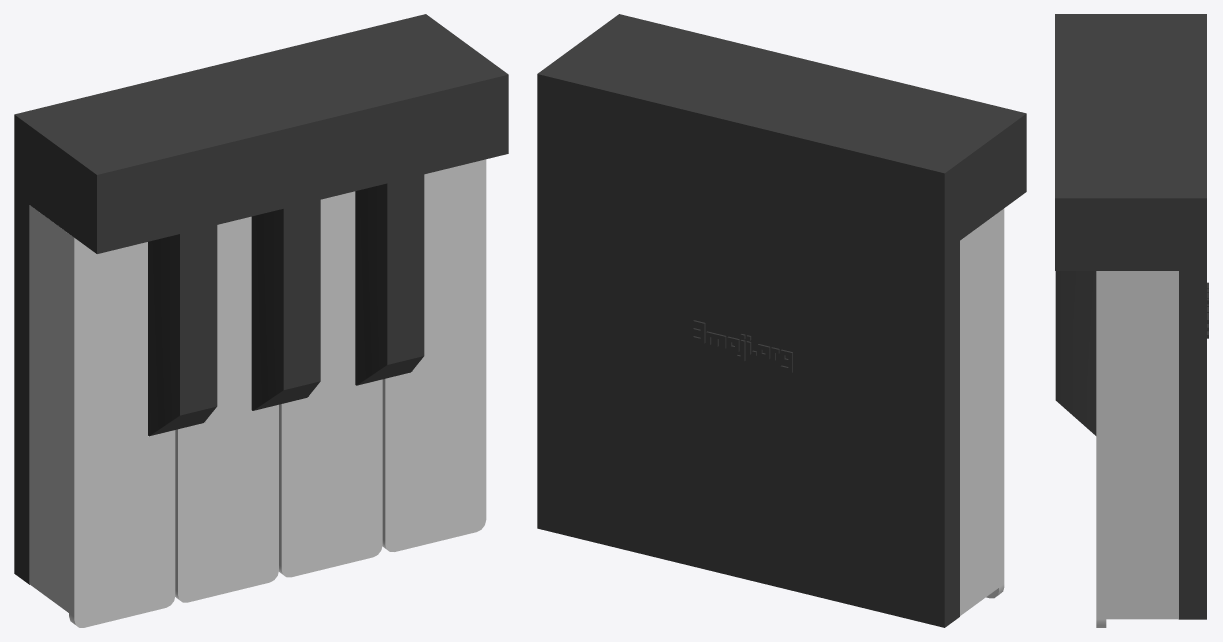
File: musical_keyboard.fbx
The picture shows the model from 3 angles, left to right: view 1: azimuth 30°, elevation 25°; view 2: azimuth 150°, elevation 25°; view 3: azimuth 270°, elevation 25°; orthographic projection. The views are drawn at different scales.
Visible parts, largest first — view 1: Cube.914; view 2: Cube.914; view 3: Cube.914.
Boxes of the visible parts, x1=… form: Cube.914: x1=14, y1=14, x2=508, y2=627; Cube.914: x1=537, y1=14, x2=1026, y2=627; Cube.914: x1=1055, y1=14, x2=1208, y2=627.
Bounding box in the file's own units: 198 × 217 × 69.81.
Materials: 1 (1 with a texture image).
